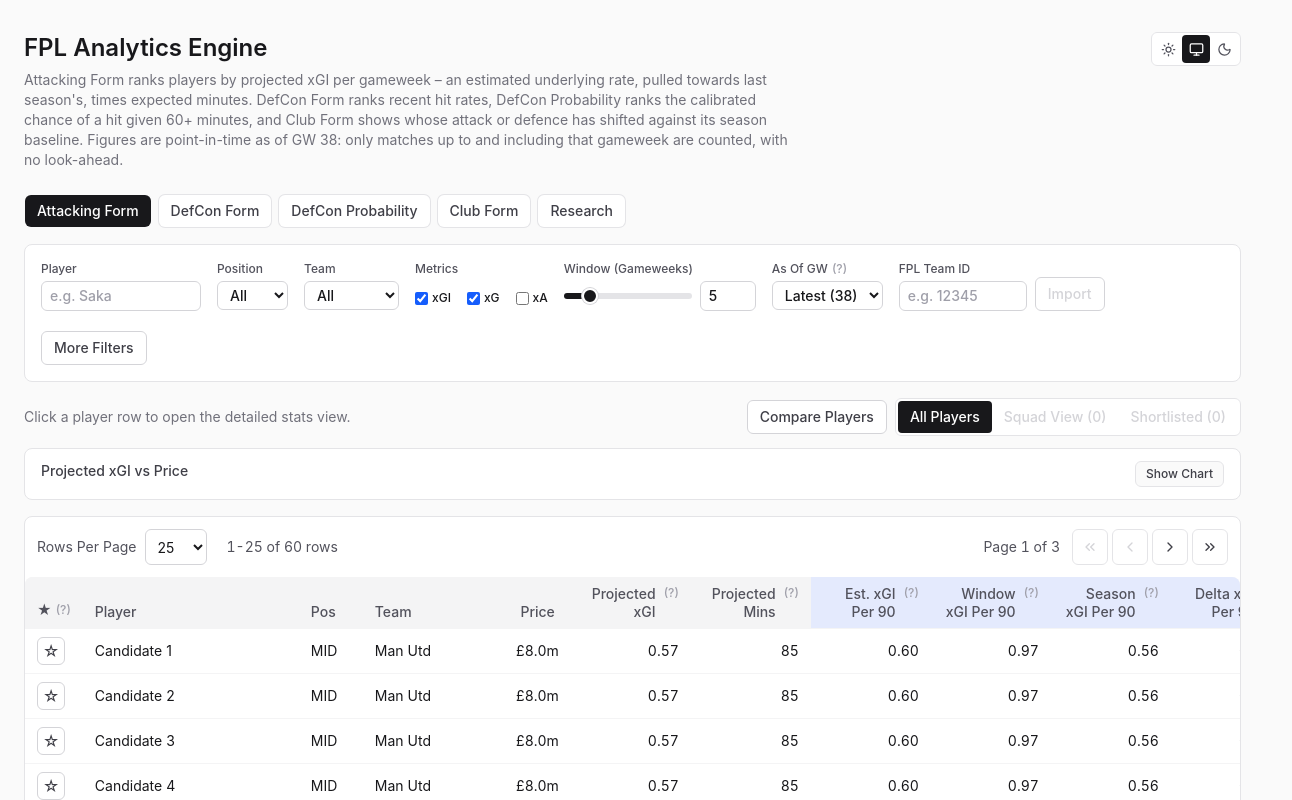
keeps the current page when shortlisting and resets it when searching
Expected: the text "Candidate 1" is shown, left=95, top=641, right=172, bottom=661
Click the button named "Next Page" at [1170, 547], box left=1152, top=529, right=1188, bottom=565
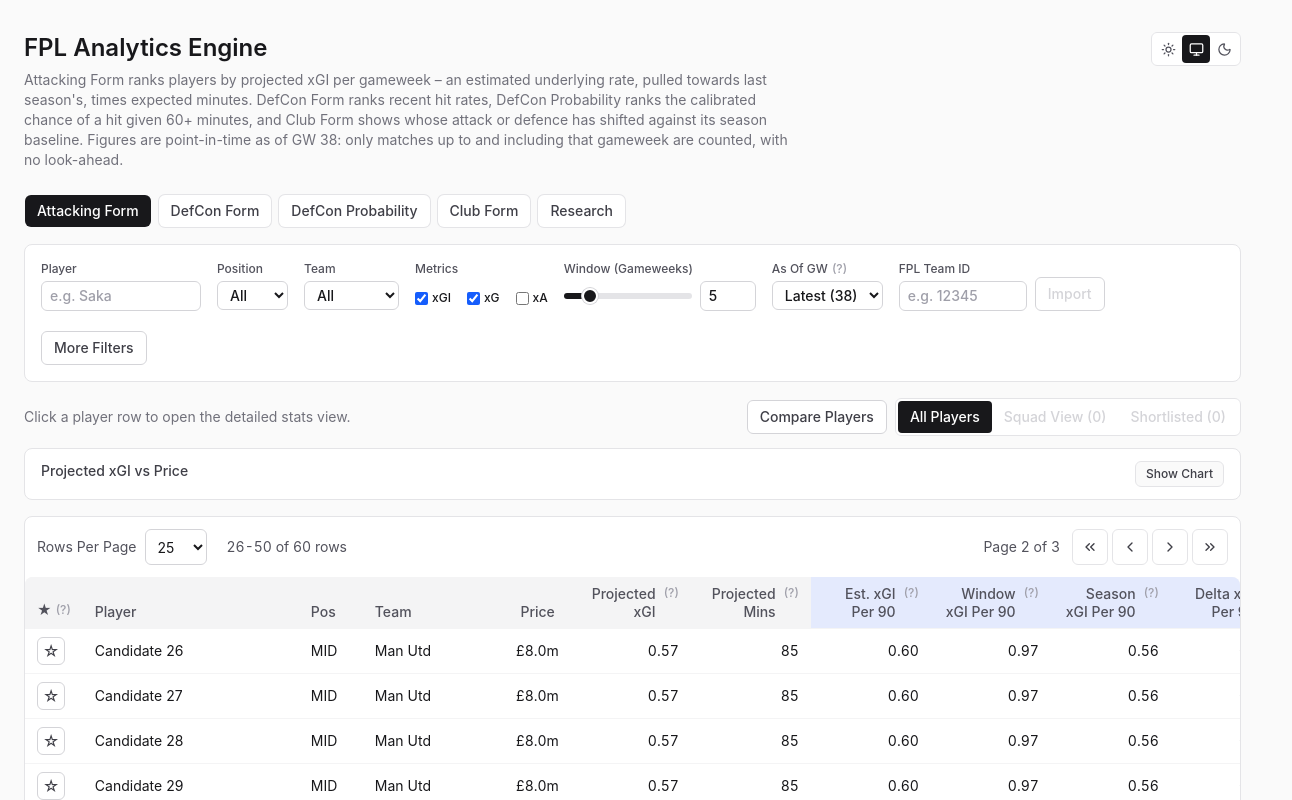
Click the button named "Add Candidate 26 to shortlist" at [51, 651], box left=37, top=637, right=65, bottom=665
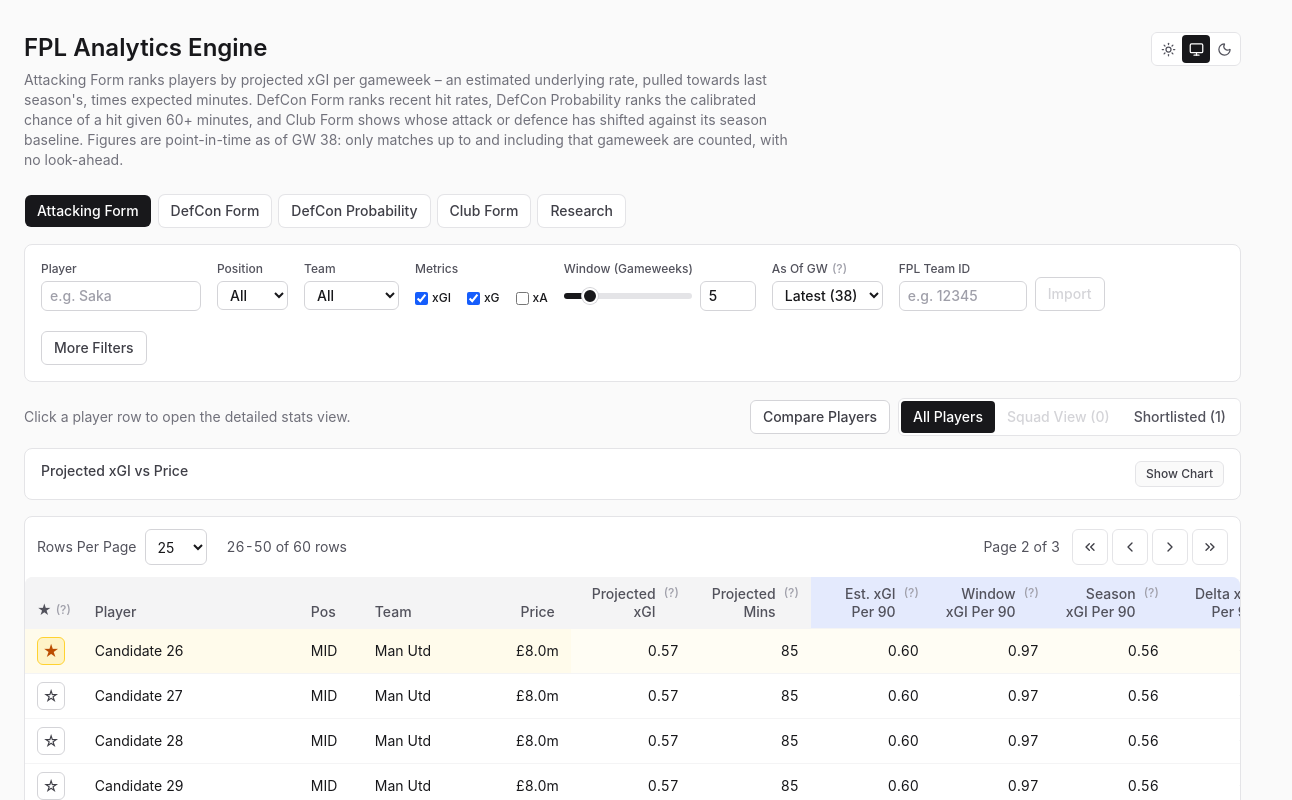
Result: the button named "Remove Candidate 26 from shortlist" is shown at left=37, top=637, right=65, bottom=665
Type "Candidate 60" into the search field with placeholder "e.g. Saka" at [121, 296], box left=41, top=281, right=201, bottom=311
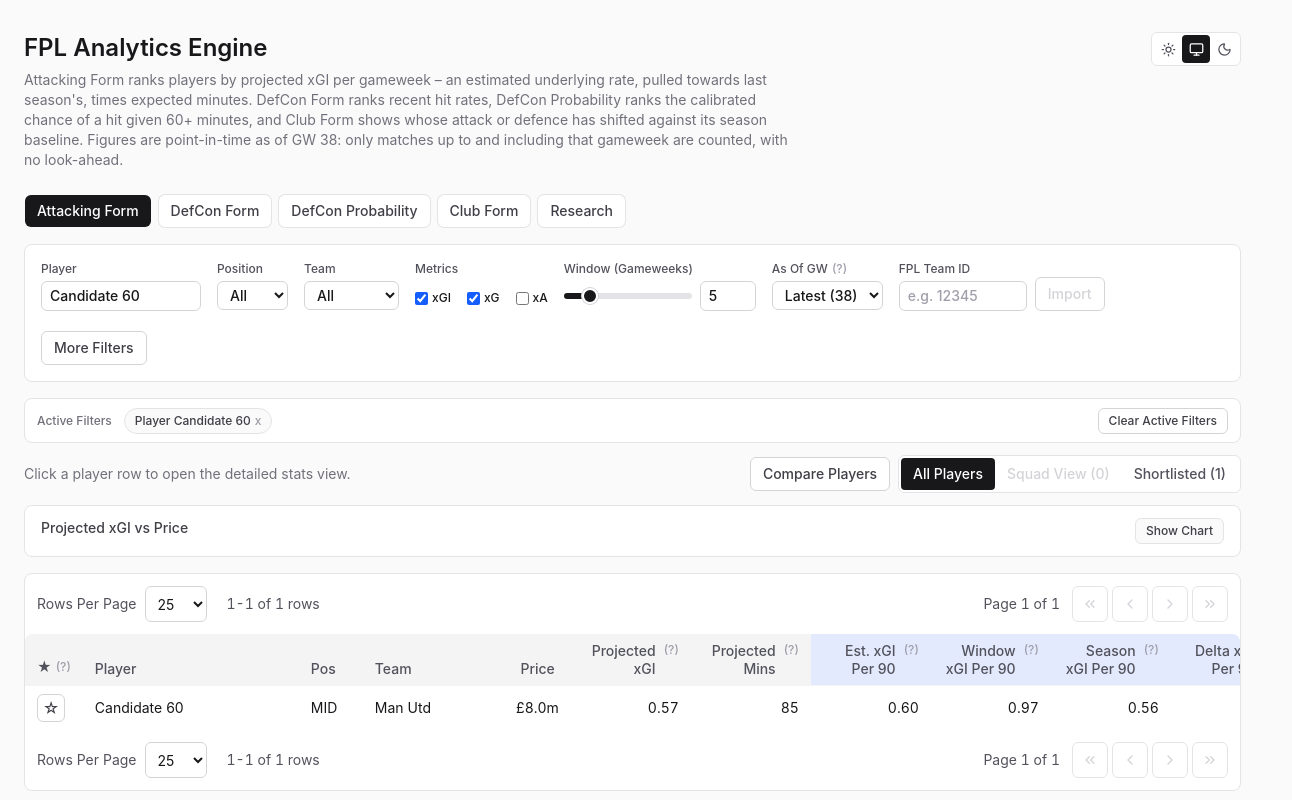
Expected: the text "1-1 of 1 rows" is shown 2 times, left=226, top=594, right=320, bottom=614; left=226, top=750, right=320, bottom=770
Result: the text "Candidate 60" is shown at left=95, top=698, right=184, bottom=718
